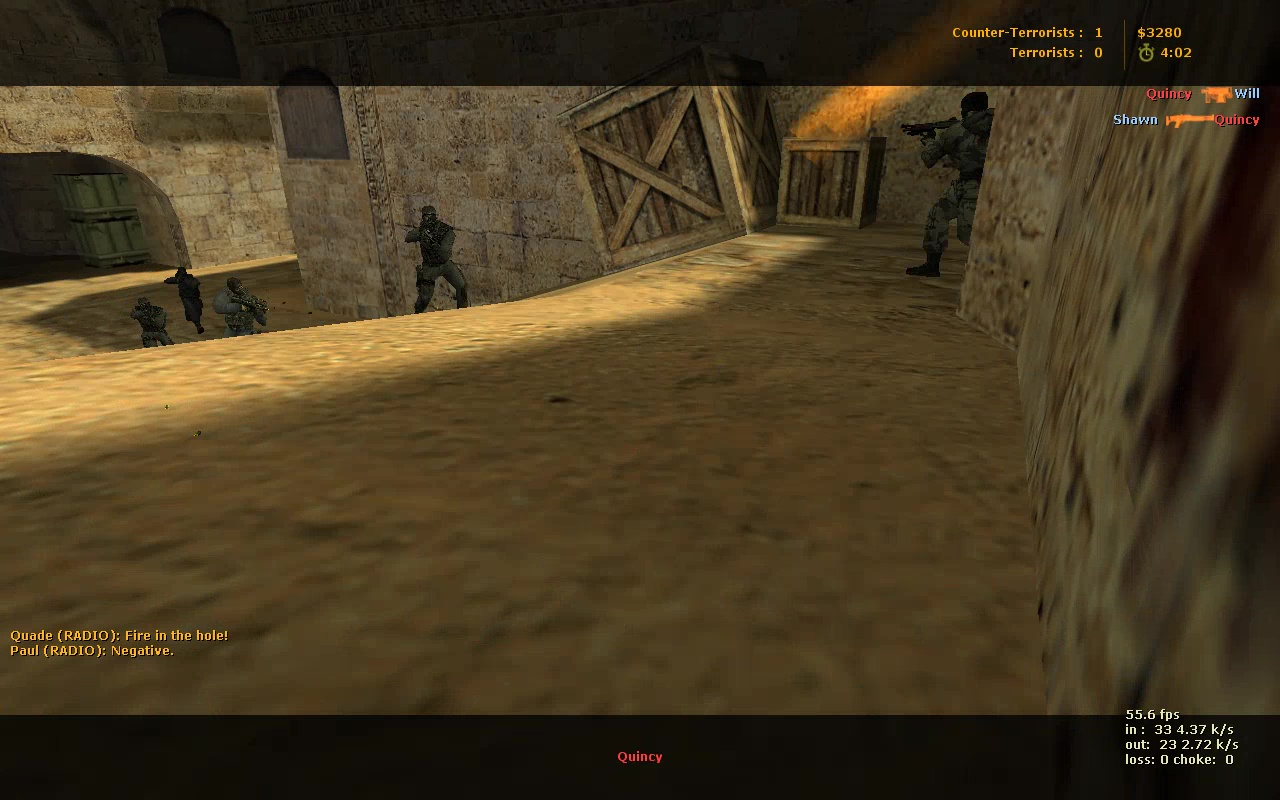ct: (406, 207, 468, 312), (164, 266, 217, 340), (212, 278, 267, 341), (131, 299, 167, 347)
terr2: (903, 88, 997, 282)
